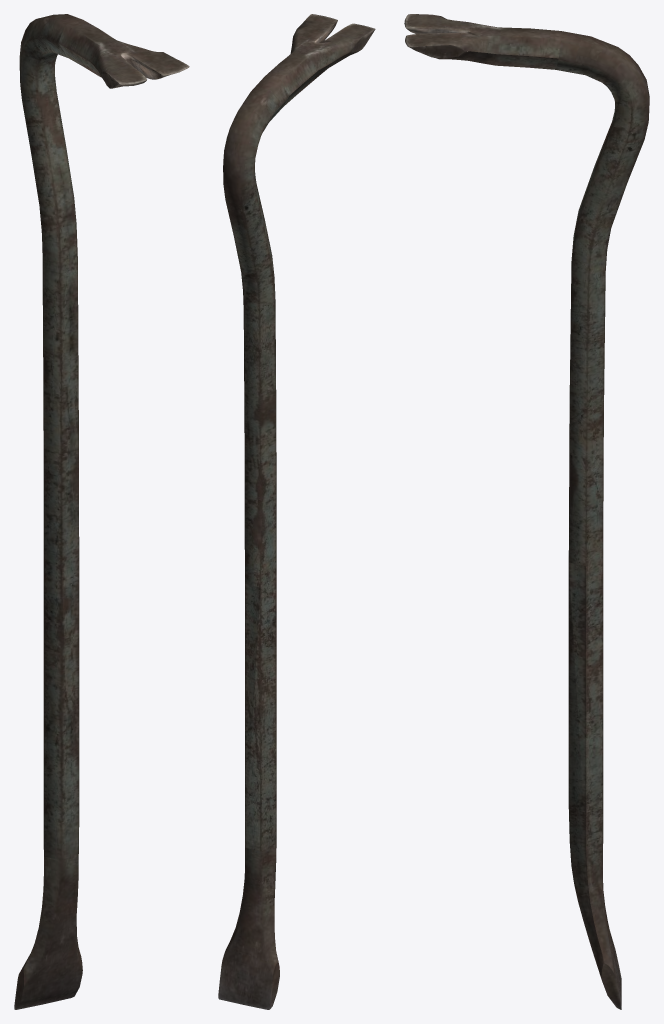
File: crowbar_01.glb
3 views of the same model, side by side, from view 1: azimuth 30°, elevation 25°; view 2: azimuth 150°, elevation 25°; view 3: azimuth 270°, elevation 25° (orthographic). The views are drawn at different scales.
Parts seen in each view (by area): view 1: CC0_crowbar_01; view 2: CC0_crowbar_01; view 3: CC0_crowbar_01.
Boxes of the visible parts, x1=… form: CC0_crowbar_01: x1=14, y1=14, x2=189, y2=1009; CC0_crowbar_01: x1=218, y1=14, x2=375, y2=1009; CC0_crowbar_01: x1=404, y1=14, x2=649, y2=1009.
Size of the model in its own units: 0.0505 by 0.6942 by 0.1595.
1 material, 1 textured.
